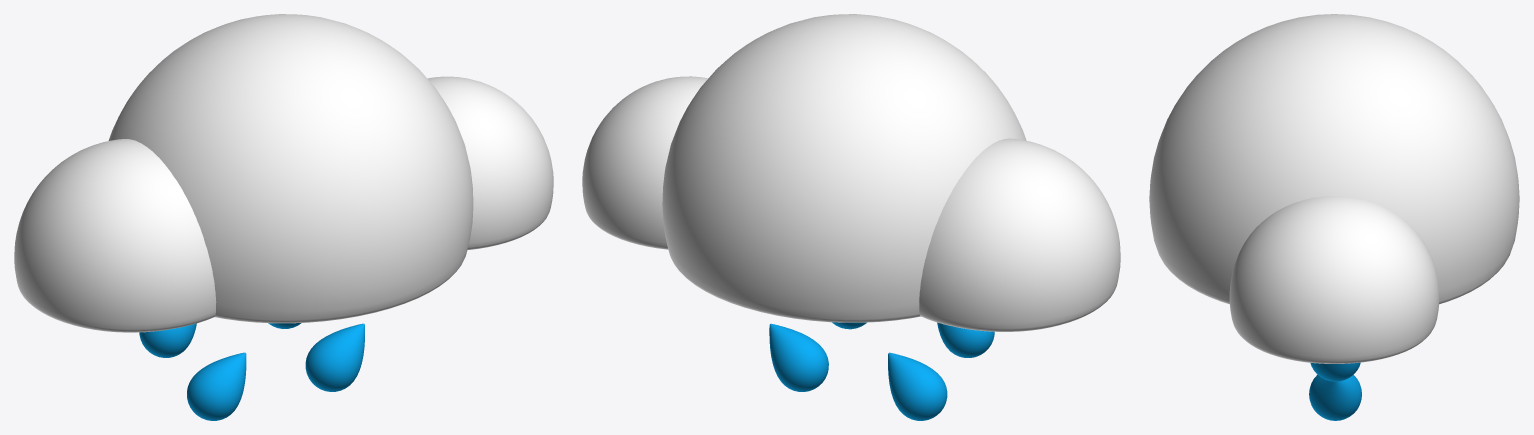
Rendered from cloud_with_rain.gltf.
3 views of the same model, side by side, from view 1: azimuth 30°, elevation 25°; view 2: azimuth 150°, elevation 25°; view 3: azimuth 270°, elevation 25° (orthographic).
Visible parts, largest first — view 1: Cube.208; view 2: Cube.208; view 3: Cube.208.
Part boxes in pixels (x1,y1,x2,y2): Cube.208: [14, 14, 553, 420]; Cube.208: [582, 14, 1120, 420]; Cube.208: [1149, 14, 1519, 420].
Size of the model in its own units: 2.15 by 1.49 by 1.37.
1 material, 1 textured.
